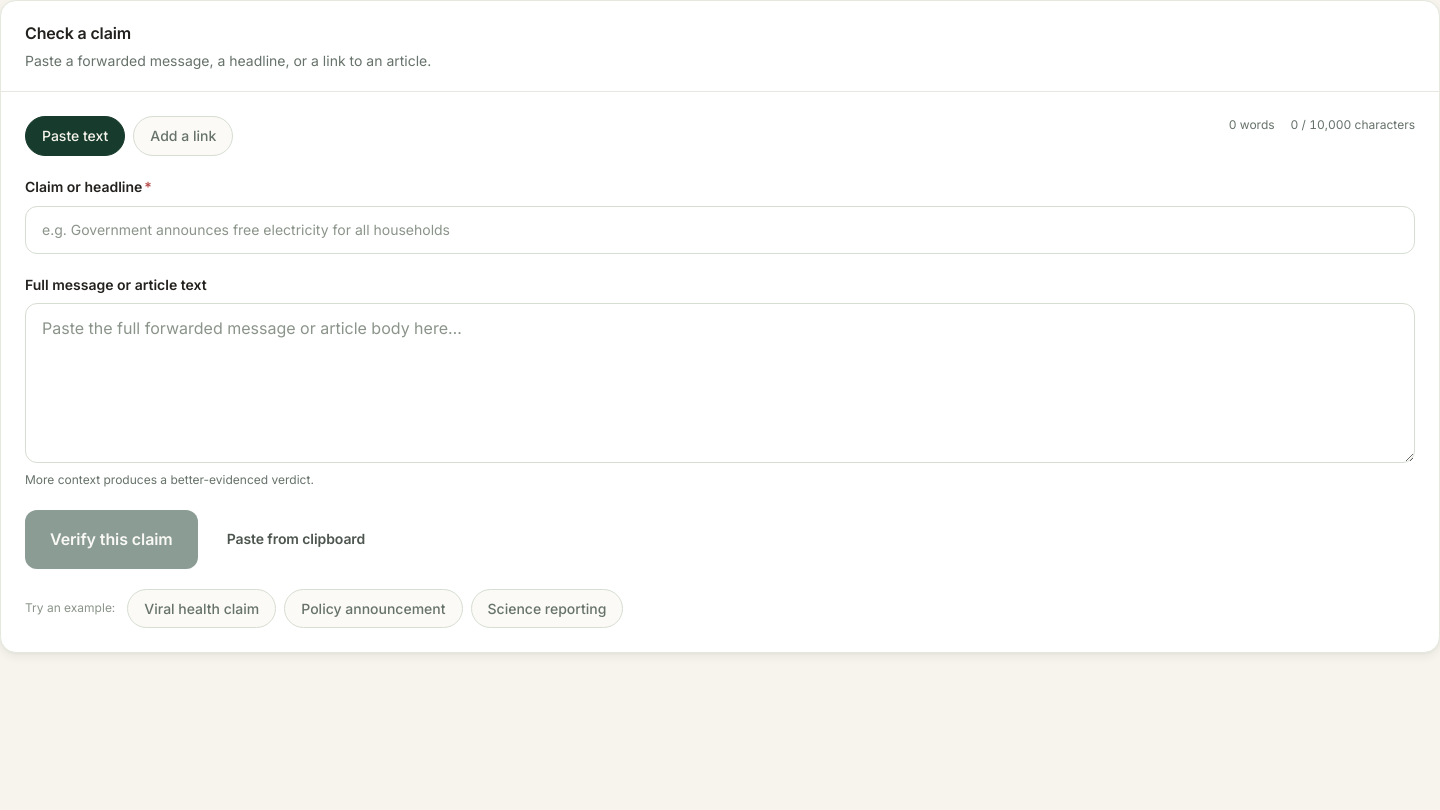
Test: TC-FLOW-01 VerifyWorkspace input handling › clears every field
The image size is (1440, 810).
Type "Something" into the field labelled "Claim or headline*". click: (720, 230)
box: [25,206,1415,254]
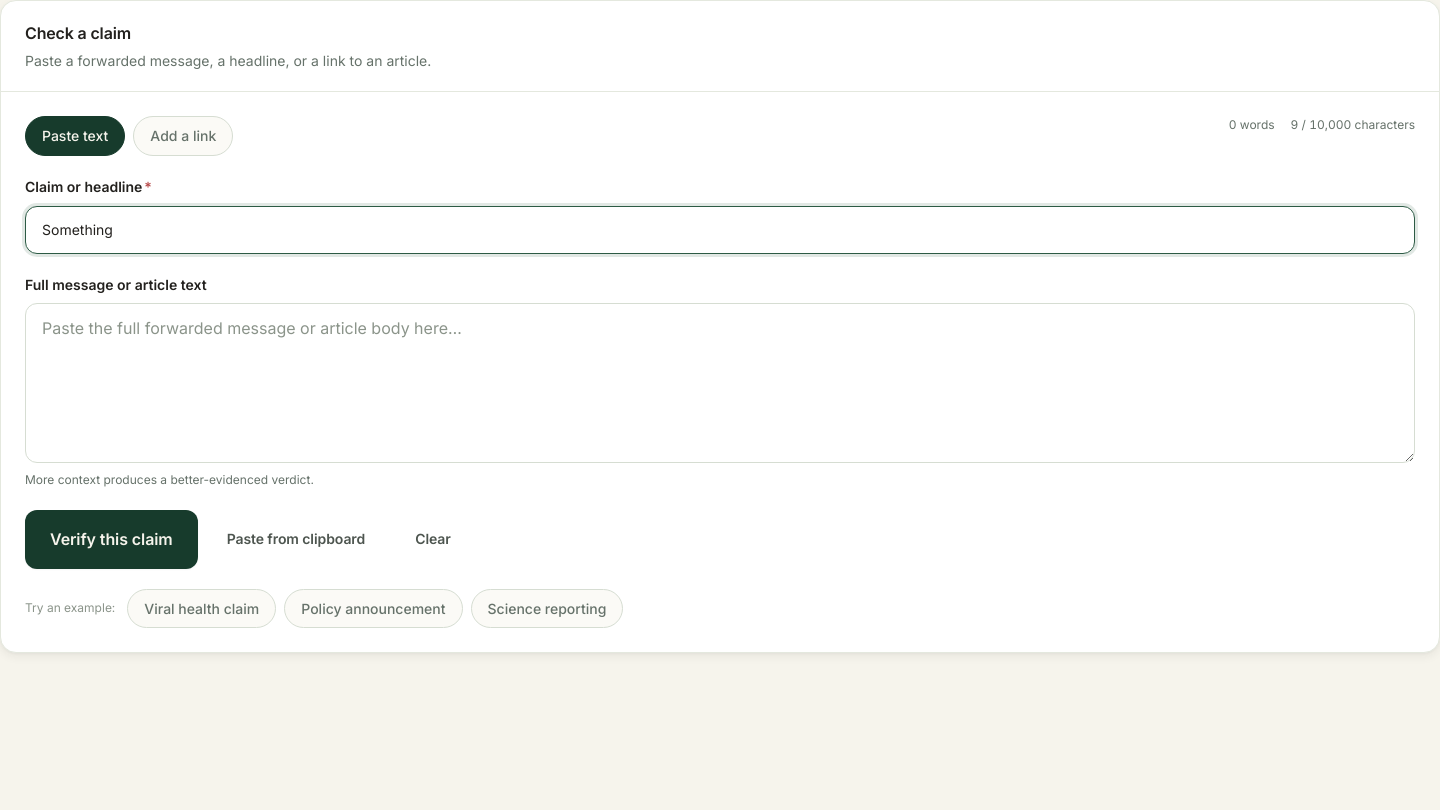
Click the button "Clear". click: click(433, 539)
box: [394,515,472,563]
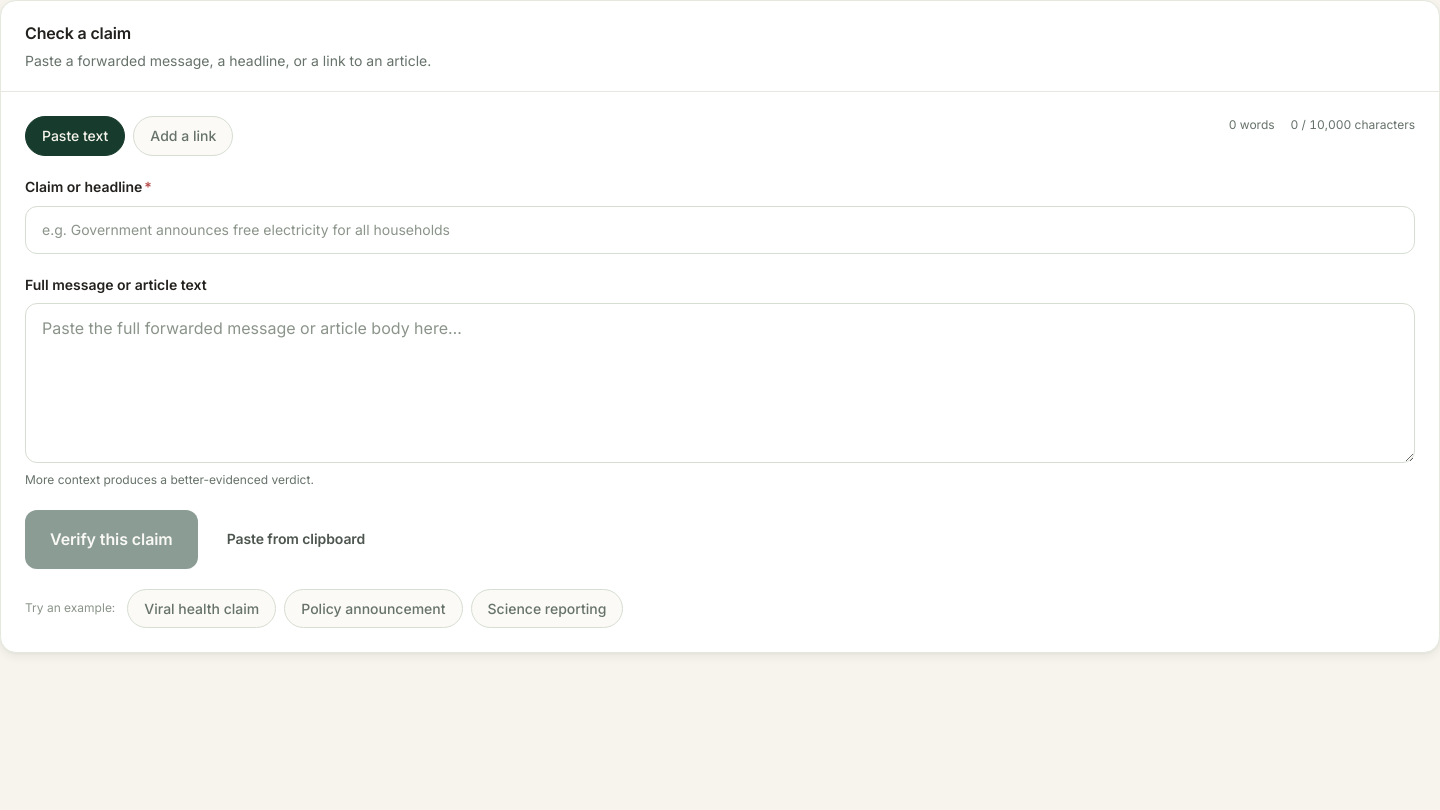
Result: the field labelled "Claim or headline*" is empty at [25,206,1415,254]
